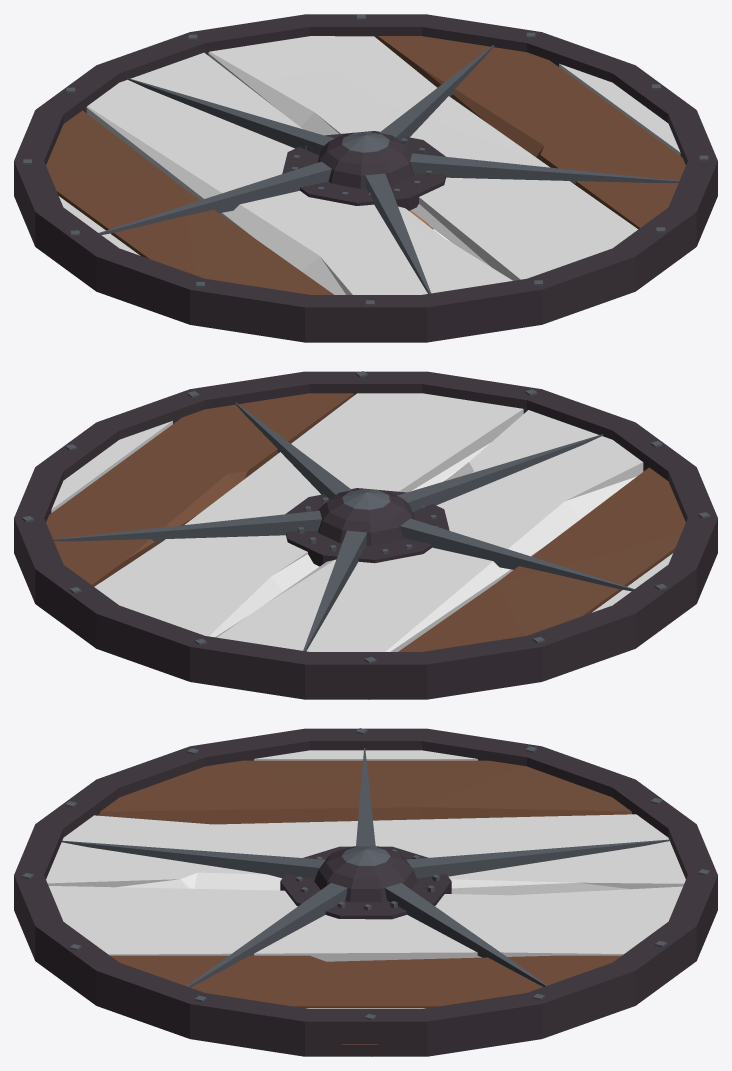
Rendered from Shield_4.fbx.
3 renders of one model, top to bottom at view 1: azimuth 30°, elevation 25°; view 2: azimuth 150°, elevation 25°; view 3: azimuth 270°, elevation 25°, orthographic.
Parts seen in each view (by area): view 1: Shield_4; view 2: Shield_4; view 3: Shield_4.
Part boxes in pixels (x1,y1,x2,y2): Shield_4: [14, 14, 717, 342]; Shield_4: [14, 371, 717, 699]; Shield_4: [14, 728, 717, 1056].
Bounding box in the file's own units: 0.9064 × 0.1184 × 0.9186.
